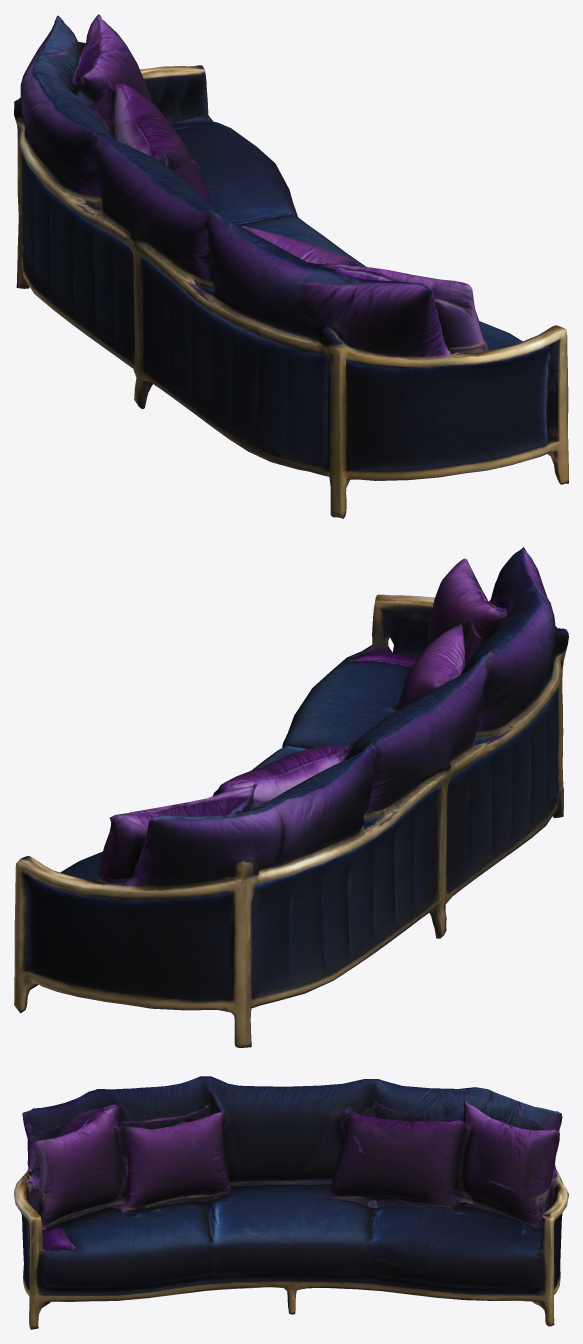
Rendered from Meshy_AI_dark_blue_and_gold_co_0221034501_texture.glb.
3 renders of one model, top to bottom at view 1: azimuth 30°, elevation 25°; view 2: azimuth 150°, elevation 25°; view 3: azimuth 270°, elevation 25°, orthographic. The views are drawn at different scales.
Bounding box in the file's own units: 0.7993 × 0.685 × 1.99.
1 material, 1 textured.
